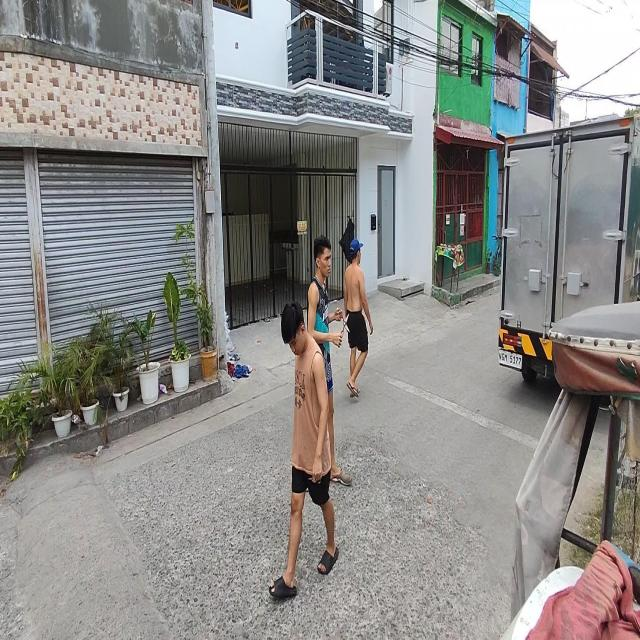scissor: (339, 312, 350, 339)
